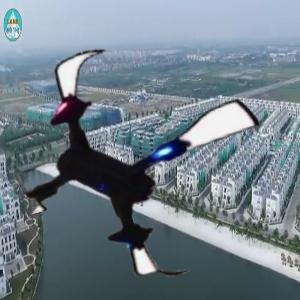drone: (8, 31, 265, 288)
